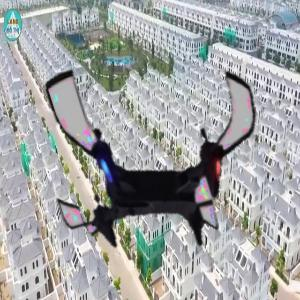drone: (43, 38, 273, 268)
